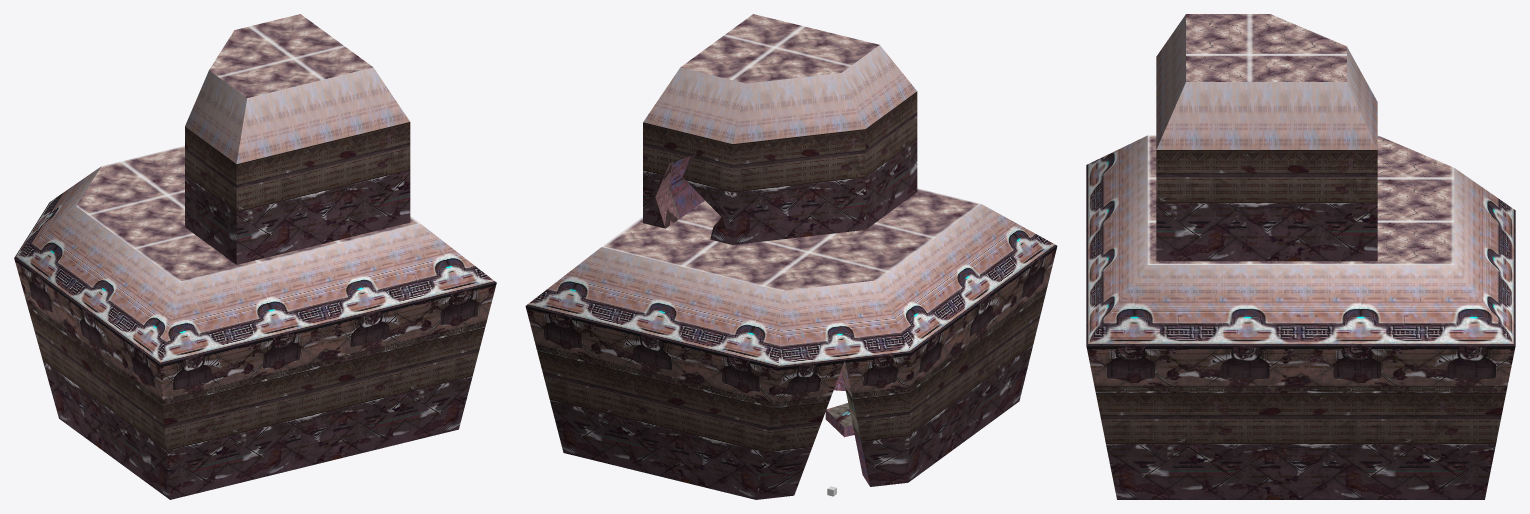
Rendered from bbruin02.FBX.
3 renders of one model, left to right at view 1: azimuth 30°, elevation 25°; view 2: azimuth 150°, elevation 25°; view 3: azimuth 270°, elevation 25°, orthographic. The views are drawn at different scales.
Visible parts, largest first — view 1: exterior, redge, roof05; view 2: exterior, redge, roof05, interior02, ceilb; view 3: exterior, redge, roof05.
Boxes of the visible parts, x1,y1,x2,y2 form: exterior: [14, 122, 496, 499]; redge: [14, 67, 496, 364]; roof05: [76, 14, 420, 282]; exterior: [525, 91, 1057, 499]; redge: [526, 45, 1056, 367]; roof05: [602, 14, 980, 290]; interior02: [669, 156, 869, 485]; ceilb: [655, 154, 852, 427]; exterior: [1086, 150, 1515, 499]; redge: [1086, 14, 1515, 346]; roof05: [1147, 14, 1454, 264].
Size of what is drawn, in the model's own units: 56 by 56 by 56.5.
